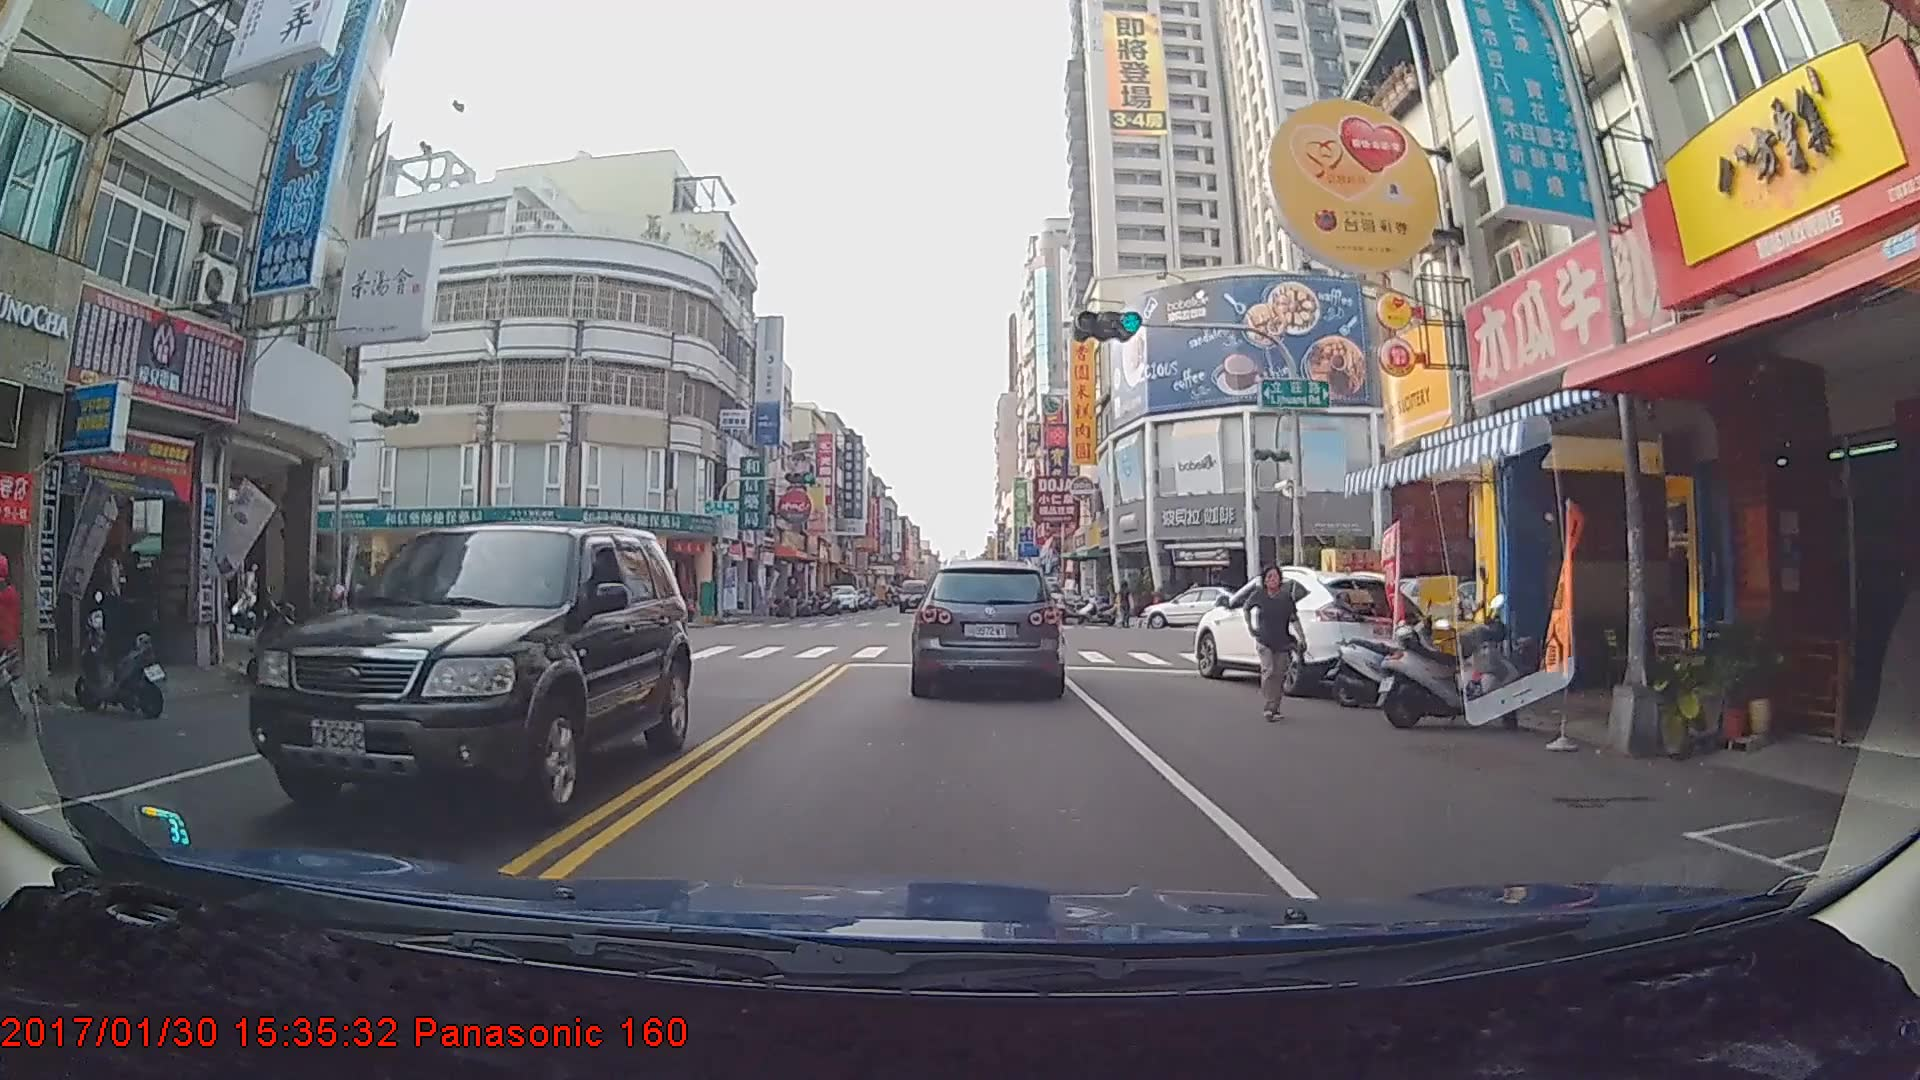pedestrian: (1249, 563, 1312, 727)
rider: (0, 549, 36, 741)
vehicle: (242, 519, 690, 825), (1193, 560, 1432, 693), (914, 558, 1061, 697), (1136, 583, 1261, 626), (896, 579, 929, 613), (821, 582, 860, 610)
